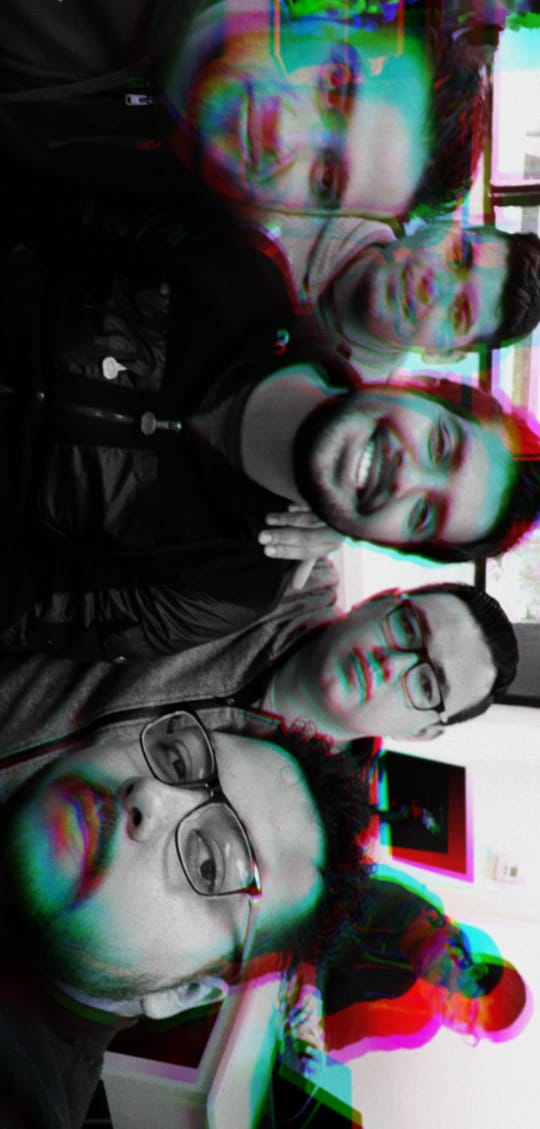Yoshi: (34, 672, 372, 1026)
